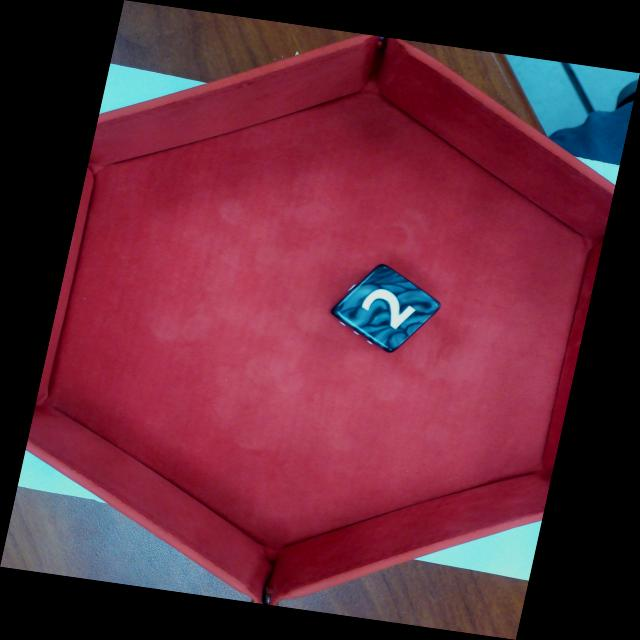dice: (328, 262, 443, 356)
